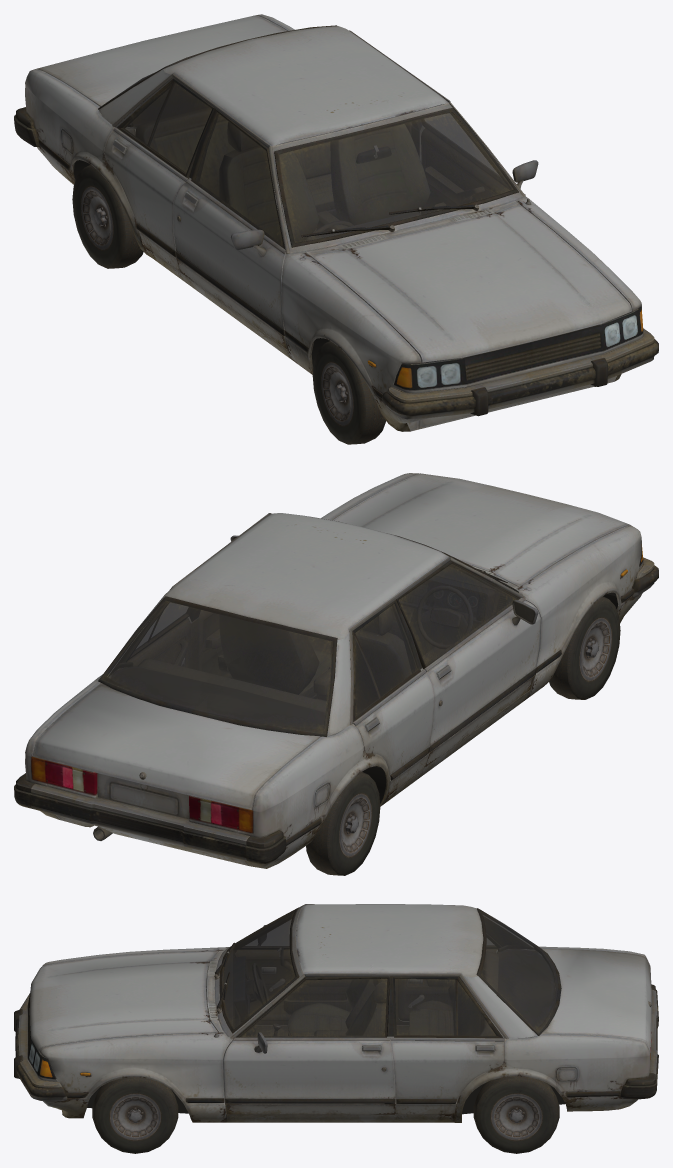
File: dirty_car.glb
3 views of the same model, one above another, from view 1: azimuth 30°, elevation 25°; view 2: azimuth 150°, elevation 25°; view 3: azimuth 270°, elevation 25° (orthographic). The views are drawn at different scales.
Visible parts, largest first — view 1: car_noname1; view 2: car_noname1; view 3: car_noname1.
Boxes of the visible parts, x1=… form: car_noname1: x1=14, y1=14, x2=658, y2=444; car_noname1: x1=14, y1=473, x2=658, y2=875; car_noname1: x1=14, y1=904, x2=658, y2=1153.
Bounding box in the file's own units: 262 × 179 × 601.
3 materials, 3 textured.
